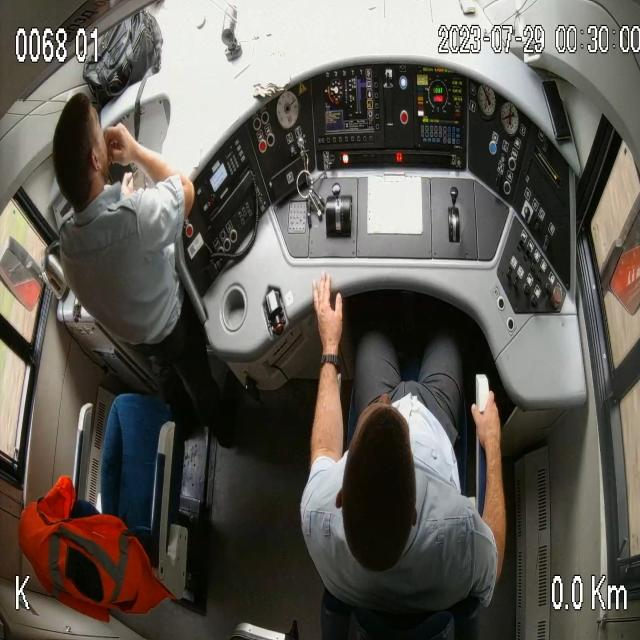smartphone: (128, 162, 147, 206)
